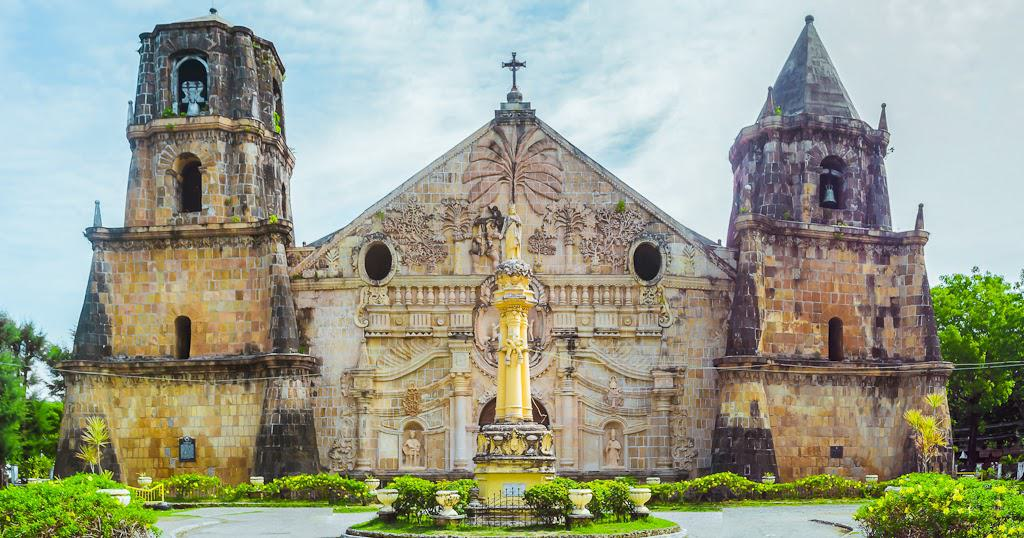Environmental Damage: (158, 108, 197, 126), (765, 102, 794, 126), (256, 211, 288, 231), (265, 109, 284, 139)
Miagao Church: (42, 4, 965, 482)
